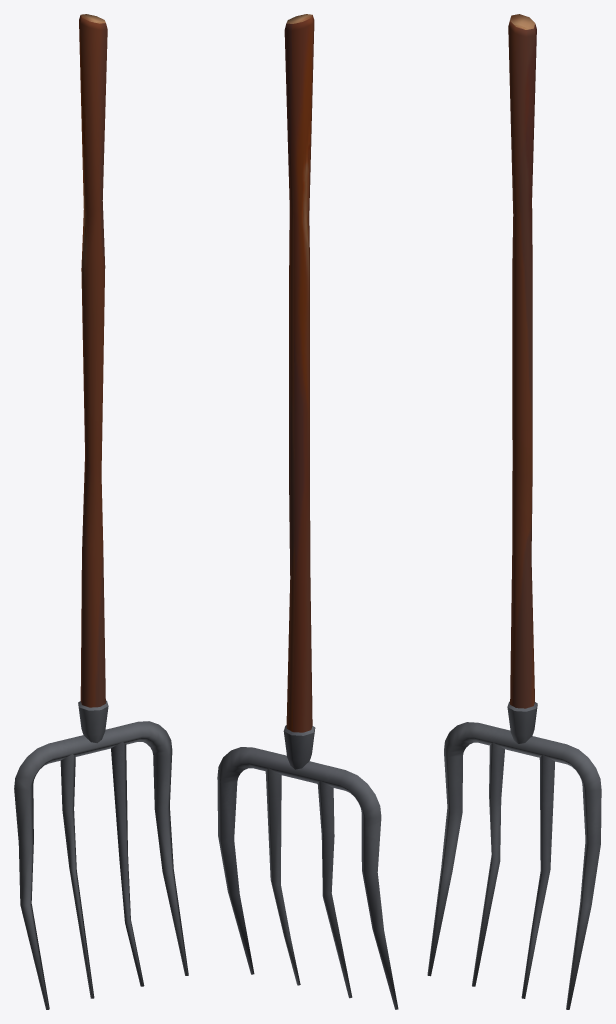
Rendered from Weapon_Fork.fbx.
3 views of the same model, side by side, from view 1: azimuth 30°, elevation 25°; view 2: azimuth 150°, elevation 25°; view 3: azimuth 330°, elevation 25° (orthographic). The views are drawn at different scales.
Visible parts, largest first — view 1: Fork; view 2: Fork; view 3: Fork.
Part boxes in pixels (bbox=[...]): Fork: bbox=[14, 14, 188, 1009]; Fork: bbox=[217, 14, 398, 1009]; Fork: bbox=[427, 14, 601, 1009].
Bounding box in the file's own units: 38.14 × 221 × 13.84.
